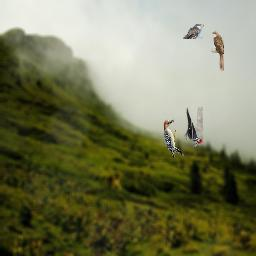Cuckoo: (211, 31, 224, 71), (183, 24, 204, 39)
Woodpecker: (161, 118, 184, 158), (184, 107, 203, 147)
